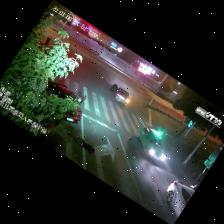person: (66, 131, 93, 153)
